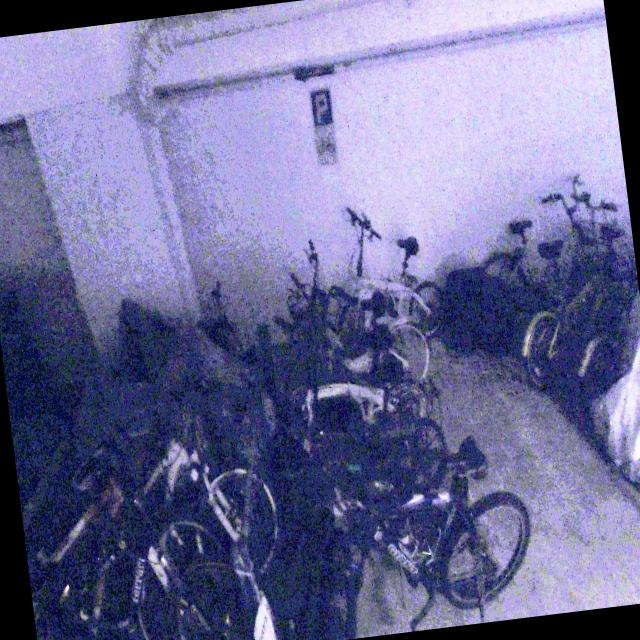bike: (291, 427, 542, 640), (267, 227, 434, 400), (502, 183, 640, 386), (464, 171, 611, 340), (315, 197, 450, 351)
